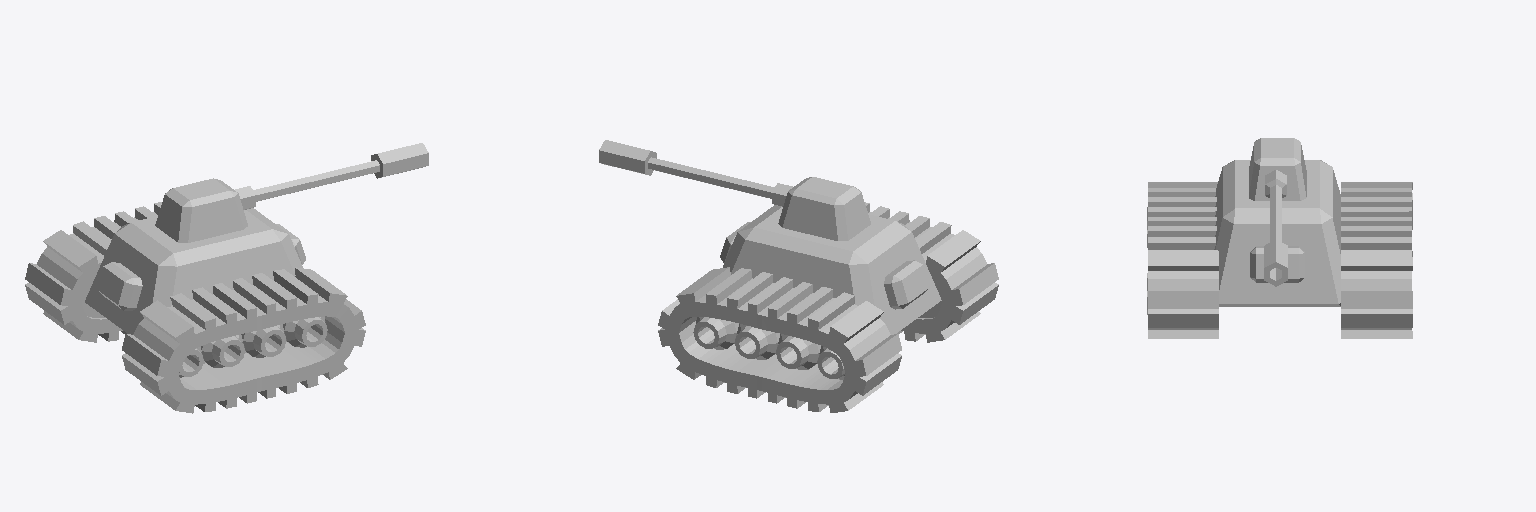
The model's file is Tank Player.obj.
3 renders of one model, left to right at view 1: azimuth 30°, elevation 25°; view 2: azimuth 150°, elevation 25°; view 3: azimuth 270°, elevation 25°, orthographic.
Parts seen in each view (by area): view 1: Cube.002_Cube.007_Tracks, Cube.006_Cube.010_Body, Cube.007_Cube.001_Head, Cube.005_Cube.009_Wheels, Cube.001_Cube.006_Cannon, Cube.003_Pouches; view 2: Cube.002_Cube.007_Tracks, Cube.006_Cube.010_Body, Cube.007_Cube.001_Head, Cube.005_Cube.009_Wheels, Cube.001_Cube.006_Cannon, Cube.003_Pouches; view 3: Cube.002_Cube.007_Tracks, Cube.006_Cube.010_Body, Cube.007_Cube.001_Head, Cube.001_Cube.006_Cannon, Cube.003_Pouches.
Boxes of the visible parts, x1=… form: Cube.002_Cube.007_Tracks: x1=25, y1=202, x2=365, y2=413; Cube.006_Cube.010_Body: x1=85, y1=208, x2=302, y2=334; Cube.007_Cube.001_Head: x1=155, y1=178, x2=247, y2=242; Cube.005_Cube.009_Wheels: x1=178, y1=317, x2=327, y2=377; Cube.001_Cube.006_Cannon: x1=235, y1=143, x2=428, y2=209; Cube.003_Pouches: x1=97, y1=224, x2=305, y2=310; Cube.002_Cube.007_Tracks: x1=658, y1=202, x2=998, y2=412; Cube.006_Cube.010_Body: x1=723, y1=205, x2=941, y2=334; Cube.007_Cube.001_Head: x1=778, y1=177, x2=870, y2=240; Cube.005_Cube.009_Wheels: x1=693, y1=317, x2=845, y2=379; Cube.001_Cube.006_Cannon: x1=599, y1=140, x2=792, y2=206; Cube.003_Pouches: x1=720, y1=222, x2=929, y2=309; Cube.002_Cube.007_Tracks: x1=1147, y1=182, x2=1412, y2=338; Cube.006_Cube.010_Body: x1=1214, y1=160, x2=1340, y2=306; Cube.007_Cube.001_Head: x1=1249, y1=138, x2=1306, y2=200; Cube.001_Cube.006_Cannon: x1=1264, y1=170, x2=1287, y2=286; Cube.003_Pouches: x1=1250, y1=246, x2=1304, y2=282.
Bounding box in the file's own units: 31.96 × 15.02 × 22.24.